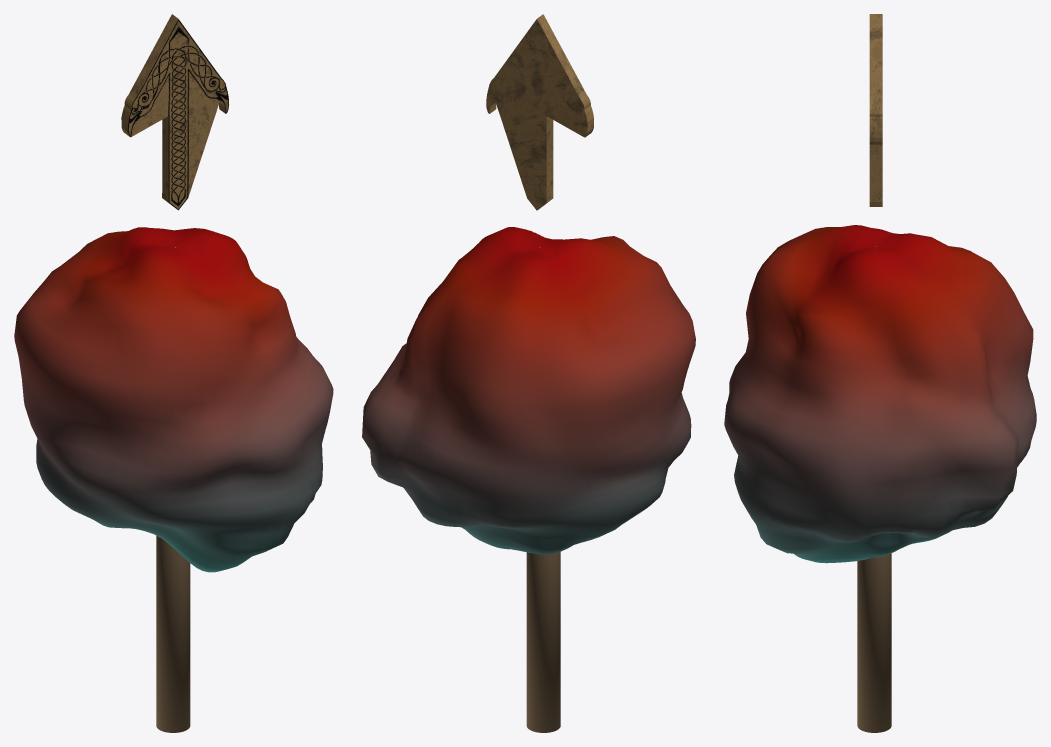
The model's file is TyrTree.fbx.
3 views of the same model, side by side, from view 1: azimuth 30°, elevation 25°; view 2: azimuth 150°, elevation 25°; view 3: azimuth 270°, elevation 25° (orthographic).
Parts seen in each view (by area): view 1: Sphere, Plane; view 2: Sphere, Plane; view 3: Sphere, Plane.
Boxes of the visible parts, x1,y1,x2,y2 form: Sphere: (14,227,333,732); Plane: (121,14,228,210); Sphere: (362,227,695,732); Plane: (486,14,593,210); Sphere: (724,225,1036,732); Plane: (869,14,882,206).
Size of the model in its own units: 364 by 906 by 360.
